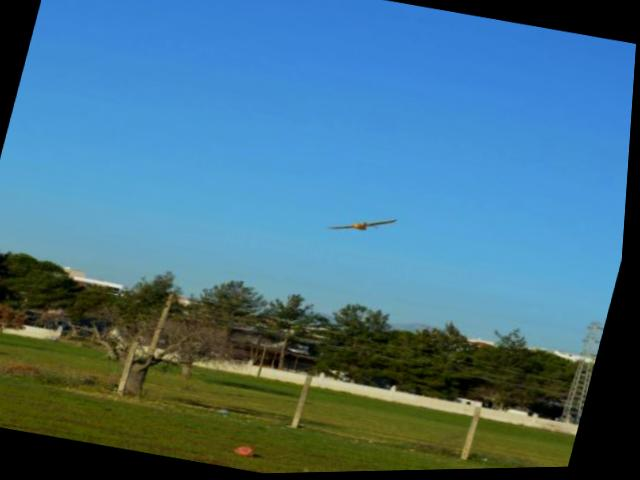iha: (329, 209, 401, 243)
